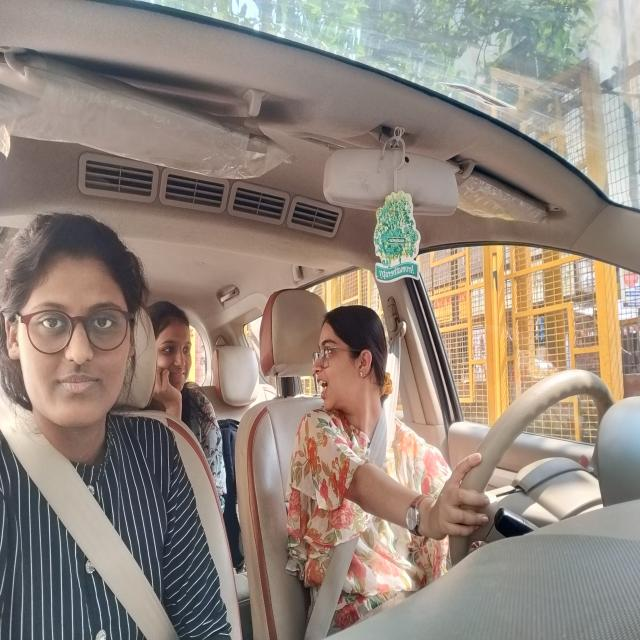LeftRight: (306, 286, 408, 464)
person: (0, 202, 149, 457), (152, 285, 205, 429)
talking: (310, 368, 335, 406)
